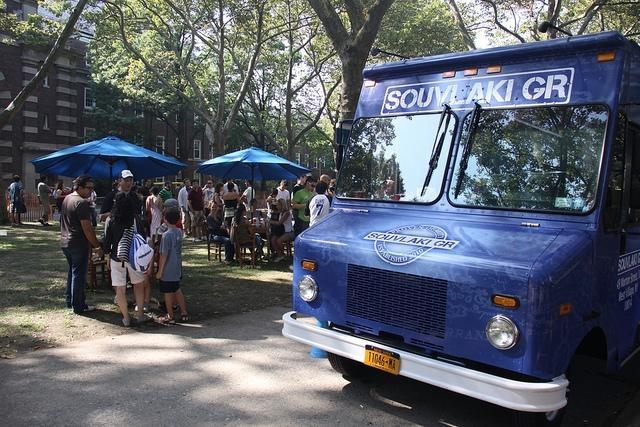truck: (282, 31, 640, 423)
